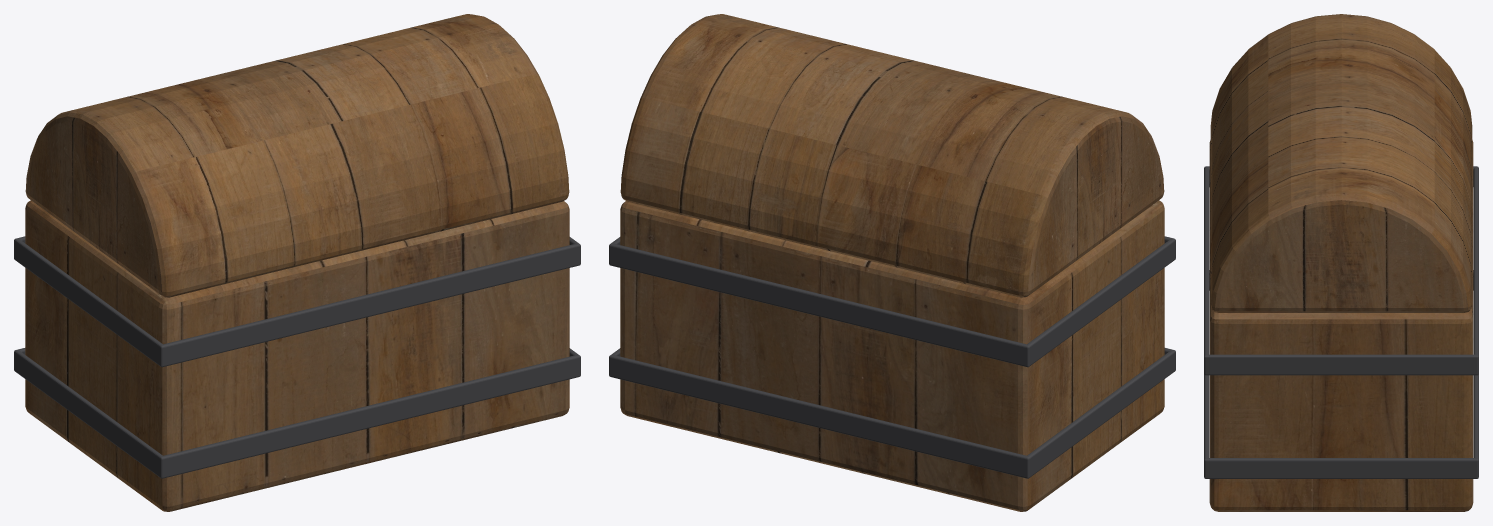
The model's file is chest.glb.
The picture shows the model from 3 angles, left to right: view 1: azimuth 30°, elevation 25°; view 2: azimuth 150°, elevation 25°; view 3: azimuth 270°, elevation 25°; orthographic projection. The views are drawn at different scales.
Parts seen in each view (by area): view 1: Chest_Lid, Chest_Body, Chest_Band; view 2: Chest_Lid, Chest_Body, Chest_Band; view 3: Chest_Lid, Chest_Body, Chest_Band.
Boxes of the visible parts, x1=… form: Chest_Lid: x1=25, y1=14, x2=569, y2=297; Chest_Body: x1=25, y1=200, x2=569, y2=511; Chest_Band: x1=14, y1=236, x2=580, y2=478; Chest_Lid: x1=620, y1=14, x2=1164, y2=297; Chest_Body: x1=620, y1=200, x2=1164, y2=511; Chest_Band: x1=609, y1=236, x2=1175, y2=478; Chest_Lid: x1=1210, y1=14, x2=1472, y2=312; Chest_Body: x1=1209, y1=140, x2=1473, y2=511; Chest_Band: x1=1204, y1=166, x2=1478, y2=478.
Size of the model in its own units: 1.03 by 0.8 by 0.626.
Materials: 3 (2 with a texture image).
